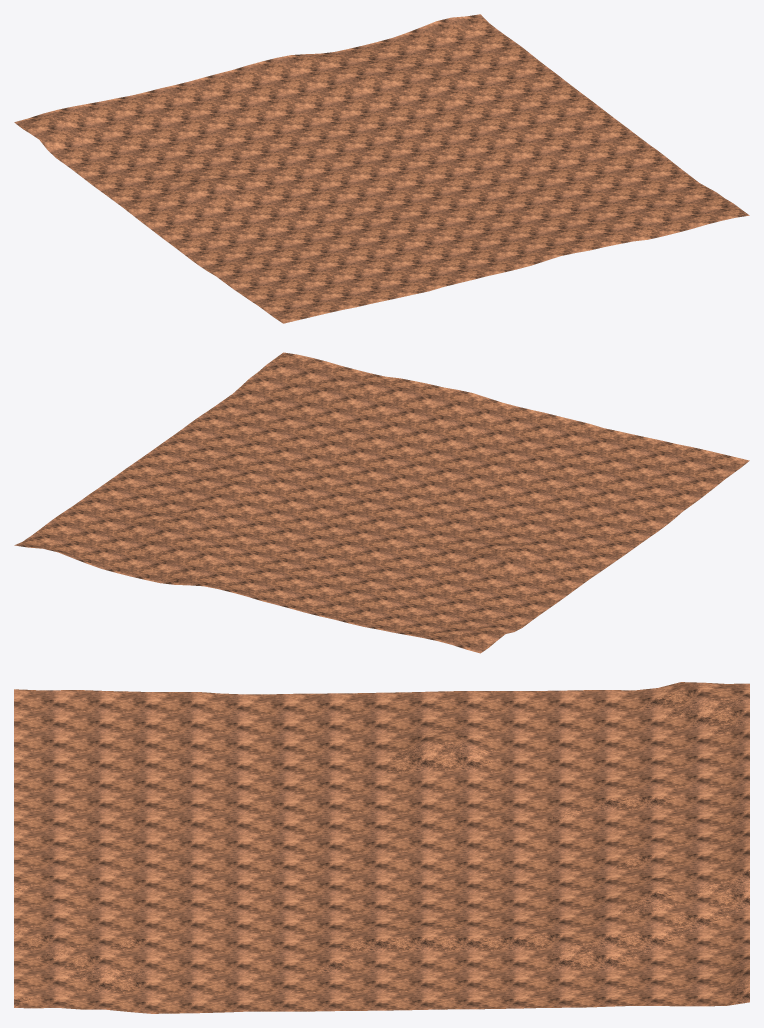
Rendered from terrain_05_07.dae.
3 renders of one model, top to bottom at view 1: azimuth 30°, elevation 25°; view 2: azimuth 150°, elevation 25°; view 3: azimuth 270°, elevation 25°, orthographic. The views are drawn at different scales.
Visible parts, largest first — view 1: terrain_05_07-node; view 2: terrain_05_07-node; view 3: terrain_05_07-node.
Boxes of the visible parts, bbox=[...] form: terrain_05_07-node: bbox=[14, 14, 749, 323]; terrain_05_07-node: bbox=[14, 352, 749, 653]; terrain_05_07-node: bbox=[14, 682, 749, 1013].
Bounding box in the file's own units: 128 × 128 × 4.62.
Materials: 1 (1 with a texture image).
